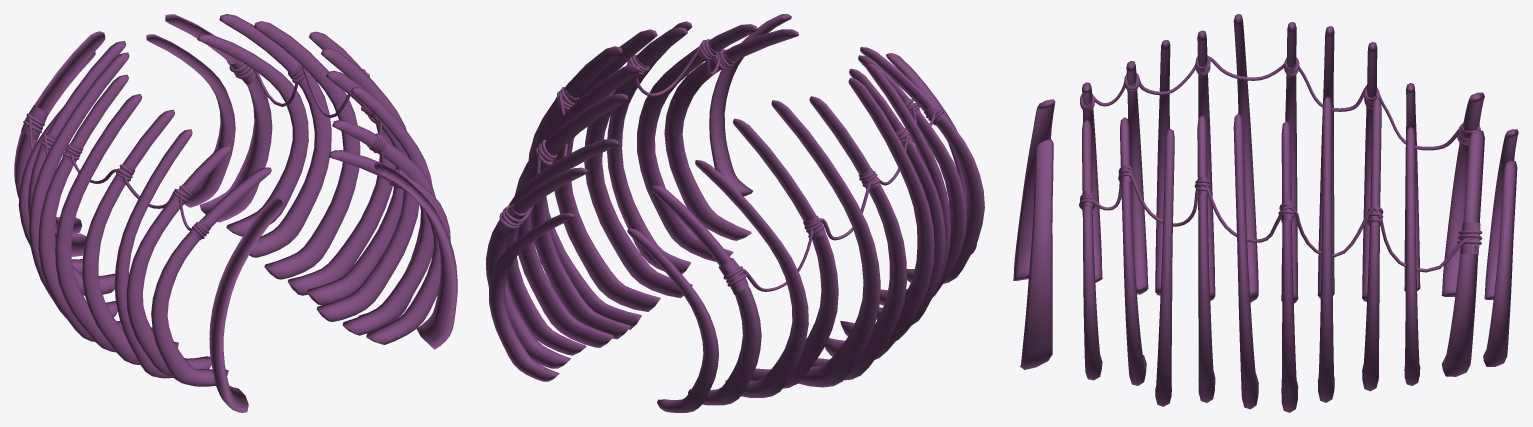
Rendered from Rib_Prefab1.fbx.
3 views of the same model, side by side, from view 1: azimuth 30°, elevation 25°; view 2: azimuth 150°, elevation 25°; view 3: azimuth 270°, elevation 25° (orthographic). The views are drawn at different scales.
Visible parts, largest first — view 1: Whale_Ribs, Rib_Wraps, pCylinder21, polySurface27; view 2: Whale_Ribs, Rib_Wraps, pCylinder21, polySurface27; view 3: Whale_Ribs, pCylinder21, Rib_Wraps, polySurface27.
Boxes of the visible parts, bbox=[...] form: Whale_Ribs: bbox=[14, 14, 457, 412]; Rib_Wraps: bbox=[21, 60, 407, 240]; pCylinder21: bbox=[253, 66, 385, 163]; polySurface27: bbox=[43, 134, 174, 208]; Whale_Ribs: bbox=[486, 14, 984, 412]; Rib_Wraps: bbox=[496, 40, 944, 294]; pCylinder21: bbox=[521, 40, 720, 224]; polySurface27: bbox=[815, 107, 916, 240]; Whale_Ribs: bbox=[1013, 14, 1518, 412]; pCylinder21: bbox=[1090, 168, 1477, 272]; Rib_Wraps: bbox=[1082, 58, 1480, 254]; polySurface27: bbox=[1139, 56, 1366, 111].
Bounding box in the file's own units: 32.11 × 22.72 × 36.
